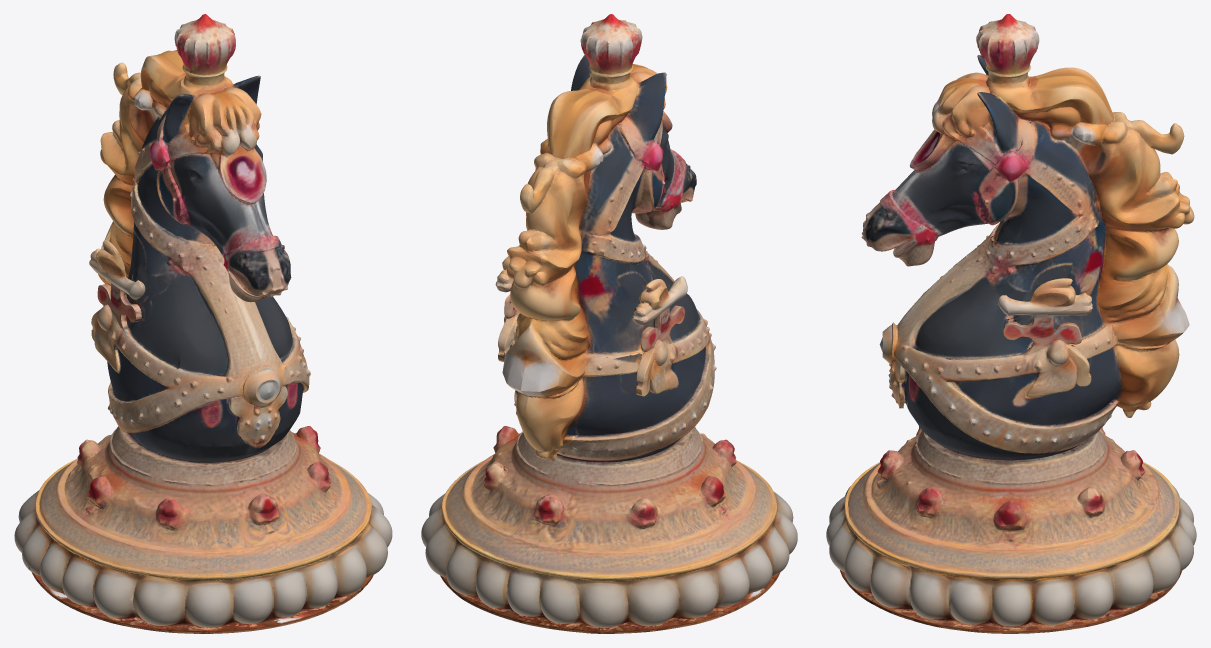
File: knight_black.glb
3 renders of one model, left to right at view 1: azimuth 30°, elevation 25°; view 2: azimuth 150°, elevation 25°; view 3: azimuth 270°, elevation 25°, orthographic.
Visible parts, largest first — view 1: model; view 2: model; view 3: model.
Boxes of the visible parts, left/top/right/bottom form: model: left=14, top=14, right=392, bottom=633; model: left=421, top=14, right=797, bottom=633; model: left=826, top=14, right=1196, bottom=633.
Size of the model in its own units: 1.16 by 1.9 by 1.16.
Materials: 1 (1 with a texture image).
